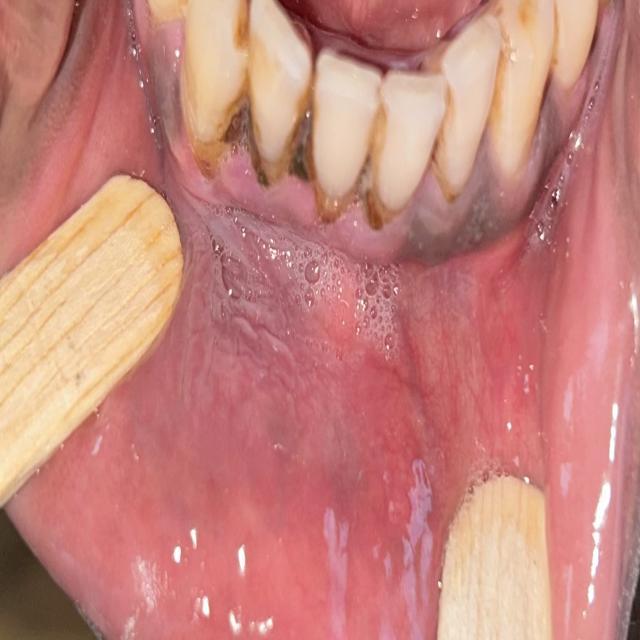leukoplakia-detection: (183, 194, 480, 511), (142, 47, 182, 173)
processing_area: (0, 10, 628, 639)
